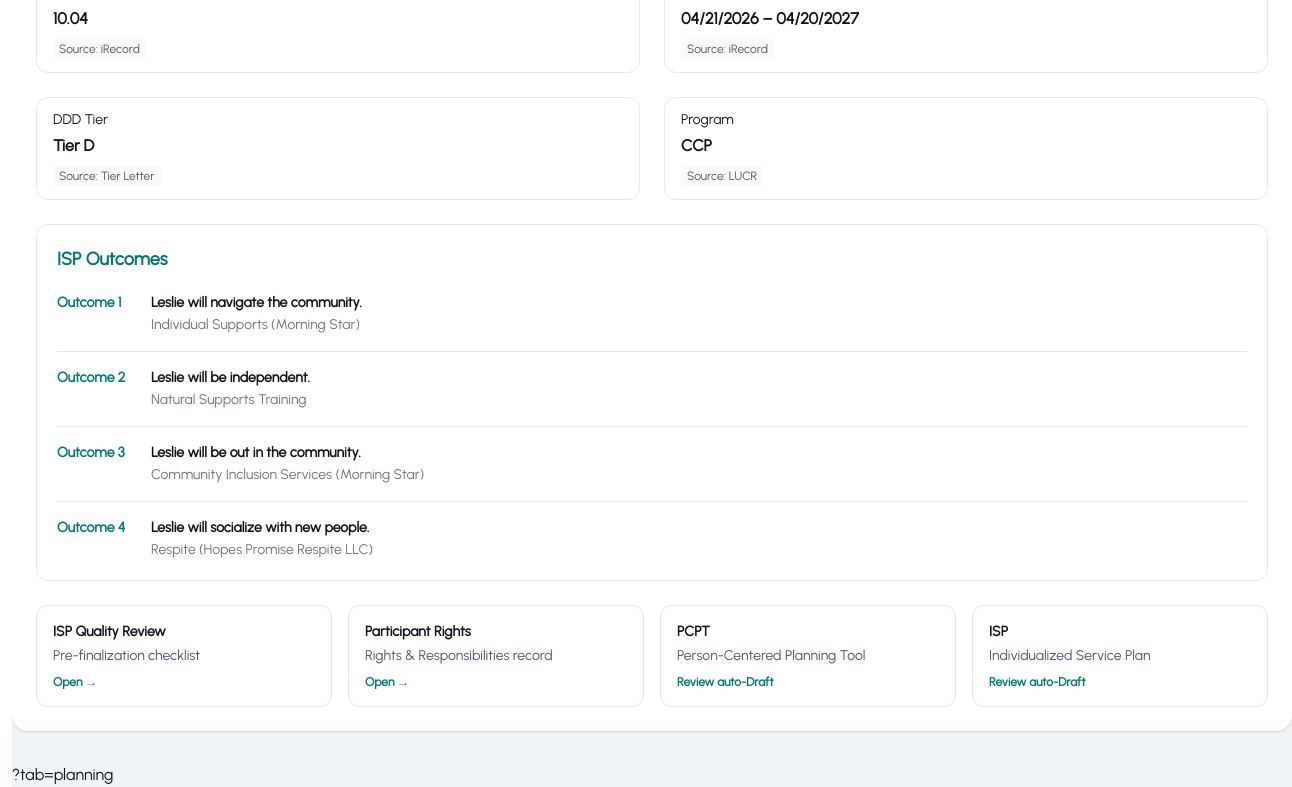
Test: opens the PCPT wizard from the Planning card and returns to Planning
Later steps or results of the test are not shown.
(page scrolled)
Click the button "PCPT Person-Centered Planning Tool Review auto-Draft" at (808, 656), box [660,605,956,707]
(page scrolled)
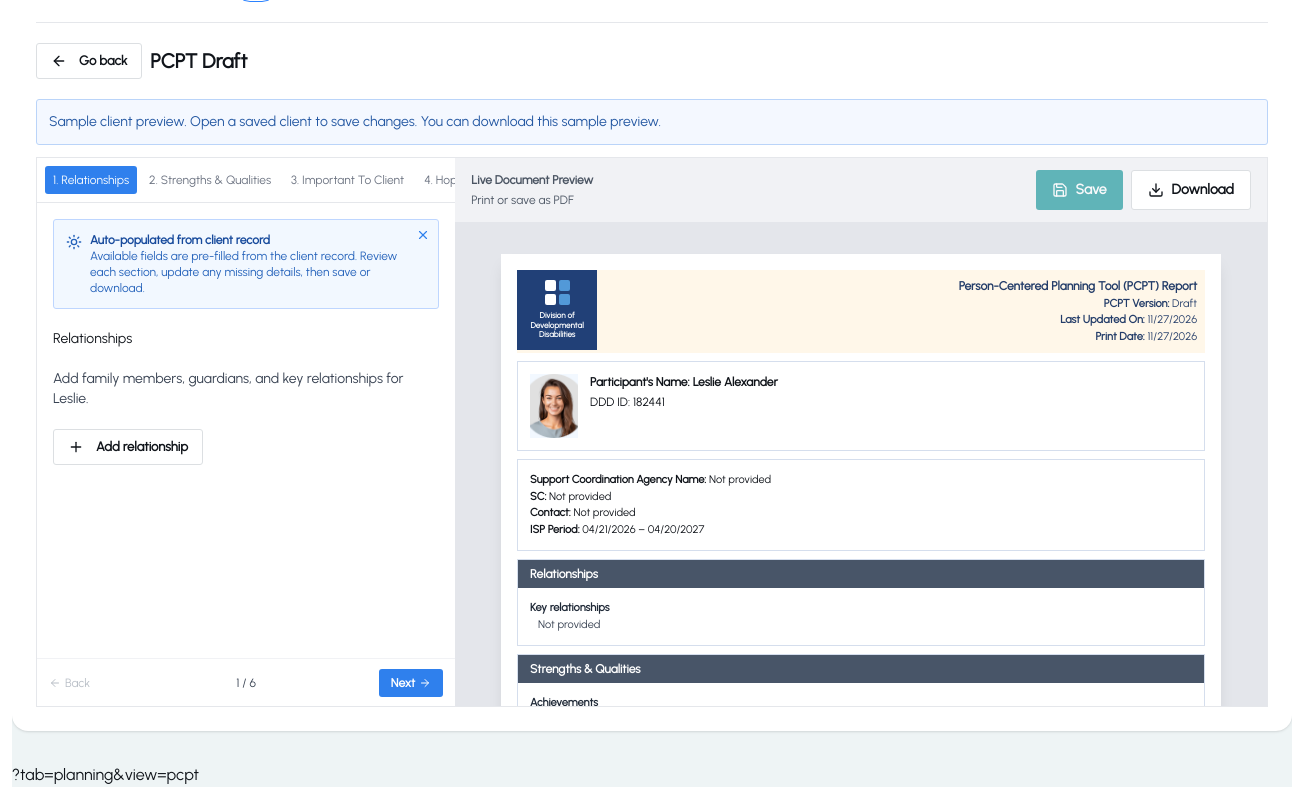
Result: the heading "PCPT Draft" is shown at [150,47,248,75]
Result: the text with test id "location" shows "view=pcpt" at [12,765,199,784]
